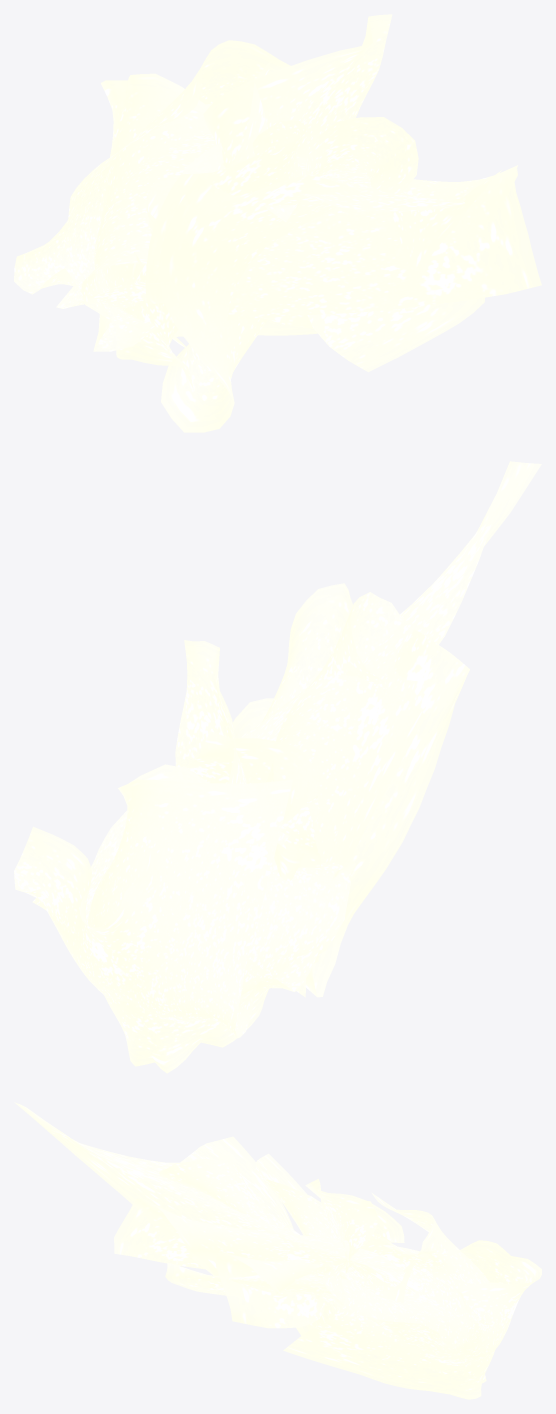
3 views of the same model, one above another, from view 1: azimuth 30°, elevation 25°; view 2: azimuth 150°, elevation 25°; view 3: azimuth 270°, elevation 25° (orthographic). The views are drawn at different scales.
Parts seen in each view (by area): view 1: 3DSMeshMatrix; view 2: 3DSMeshMatrix; view 3: 3DSMeshMatrix.
Boxes of the visible parts, left/top/right/bottom form: 3DSMeshMatrix: left=14, top=14, right=541, bottom=432; 3DSMeshMatrix: left=14, top=461, right=541, bottom=1073; 3DSMeshMatrix: left=14, top=1102, right=541, bottom=1399.
Size of the model in its own units: 174 by 230 by 407.
